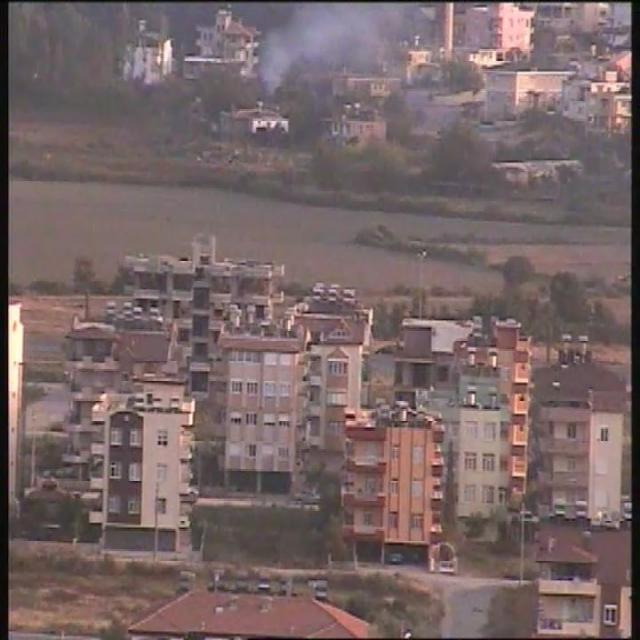smoke: (258, 8, 356, 104)
